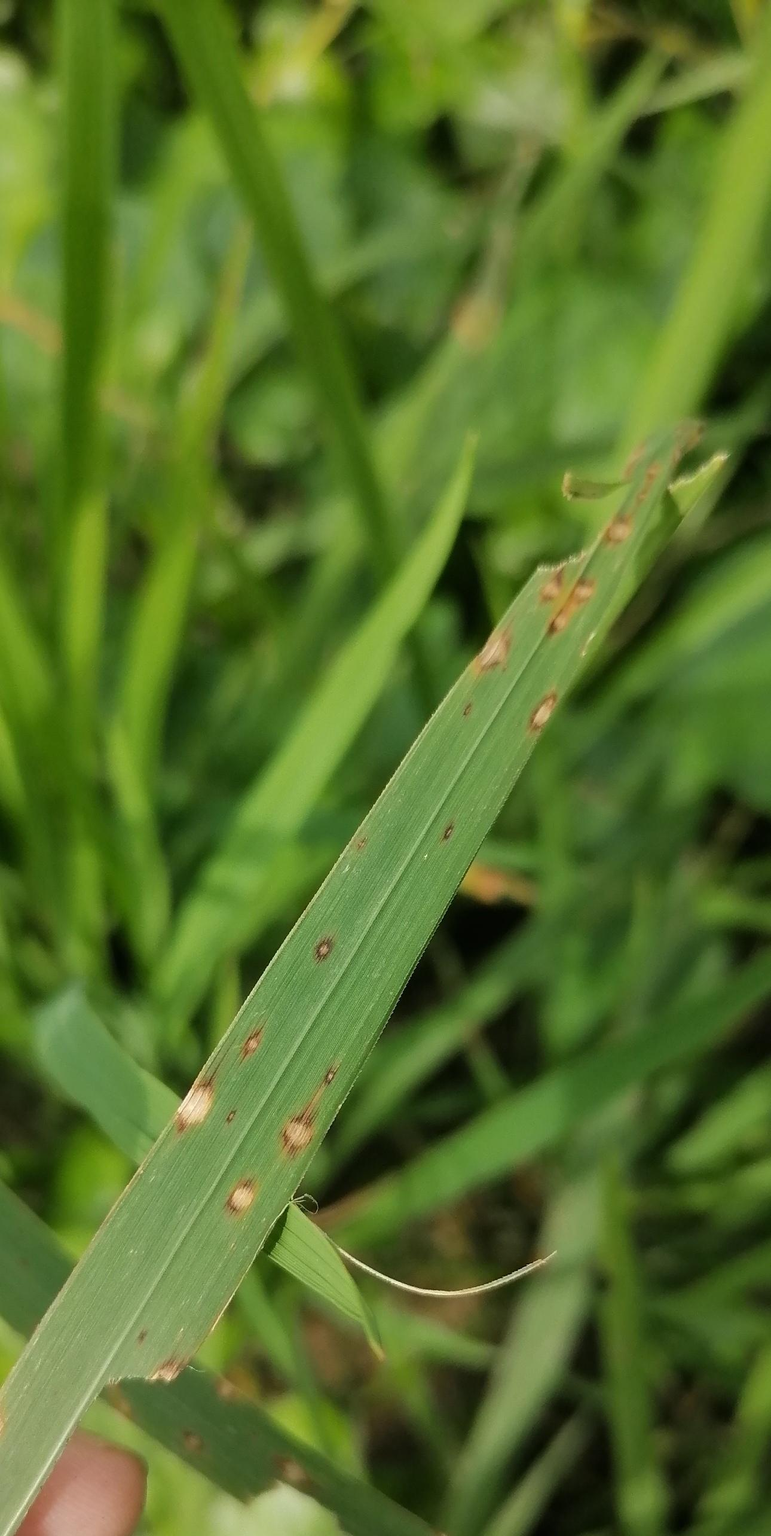Rice blast: (173, 1007, 246, 1285), (529, 553, 609, 655), (526, 682, 563, 749), (474, 618, 513, 675), (282, 1104, 318, 1160), (241, 1026, 262, 1069), (310, 933, 333, 966), (231, 1181, 254, 1214), (438, 813, 455, 846), (464, 694, 478, 732), (322, 1058, 337, 1090)
